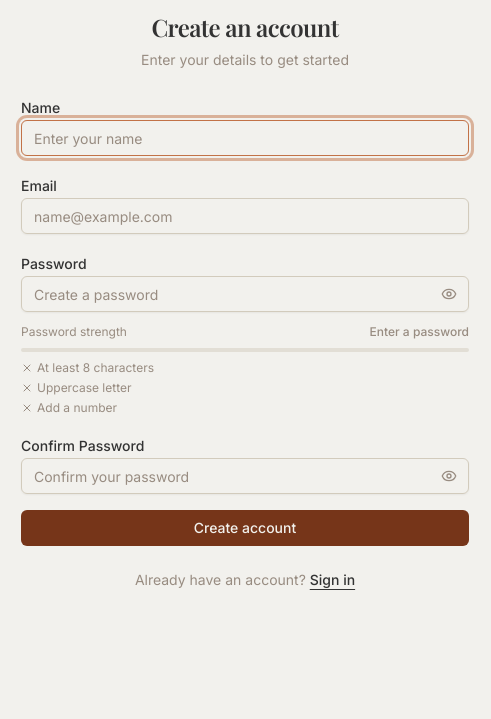
Test: RegisterForm › validation › validates name minimum length
Type "A" into the field labelled "Name" at (245, 138), box [21,120,469,156]
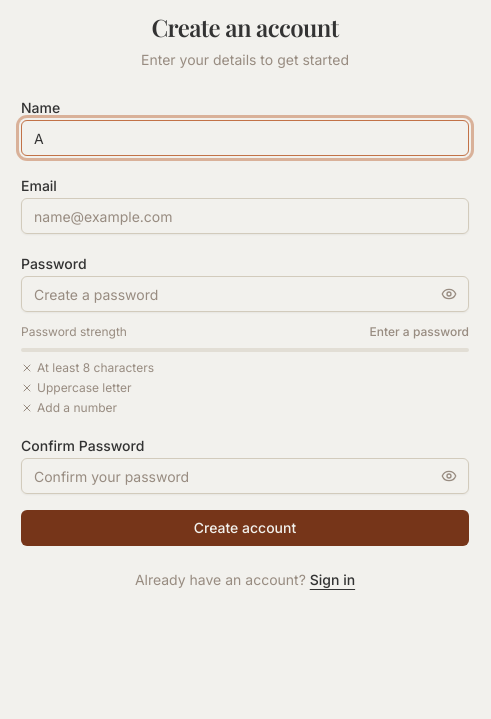
Click the button "Create account" at (245, 528), box [21,510,469,546]
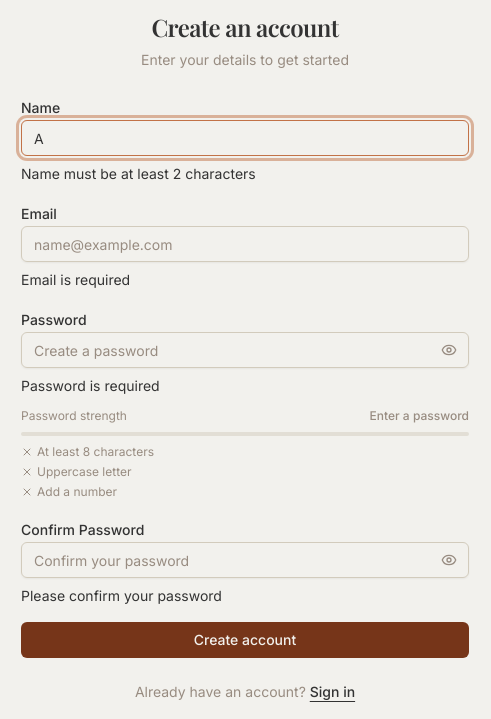
Expected: the text "Name must be at least 2 characters" is shown, [21,165,256,182]
